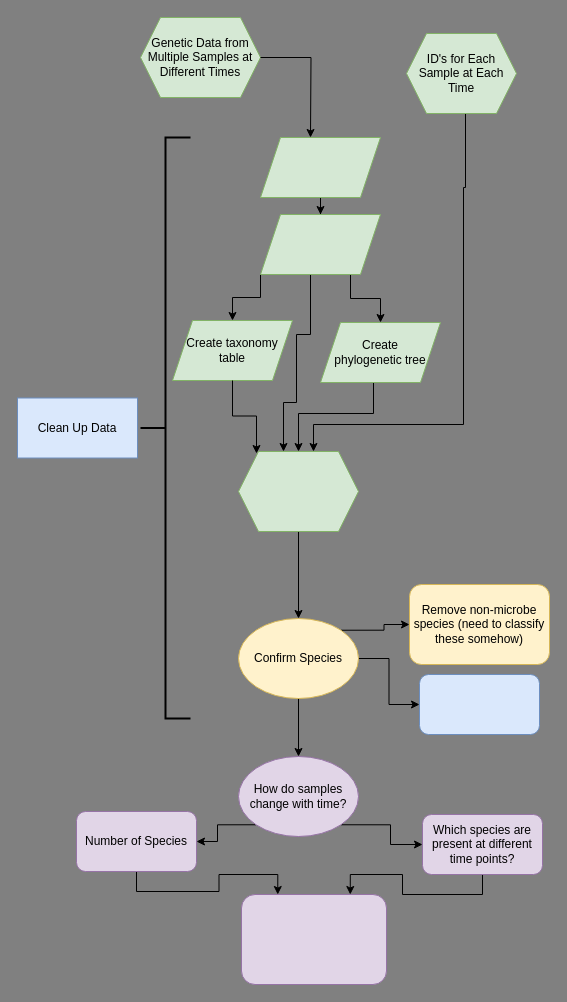
The diagram is 567 pixels wide and 1002 high, and some of its shapes have lost their labels. The shapes that lost their labels are listed below. From the top down, each one's centre as x and y in pixels, then its label:
[320,167]: Trim and filter sequences
[320,244]: Create sequence table
[298,491]: Combined Data (Phyloseq Object!)
[479,704]: Remove Host Species (Lynx)
[313,939]: How long does species composition reflect actual gut microbiome?
